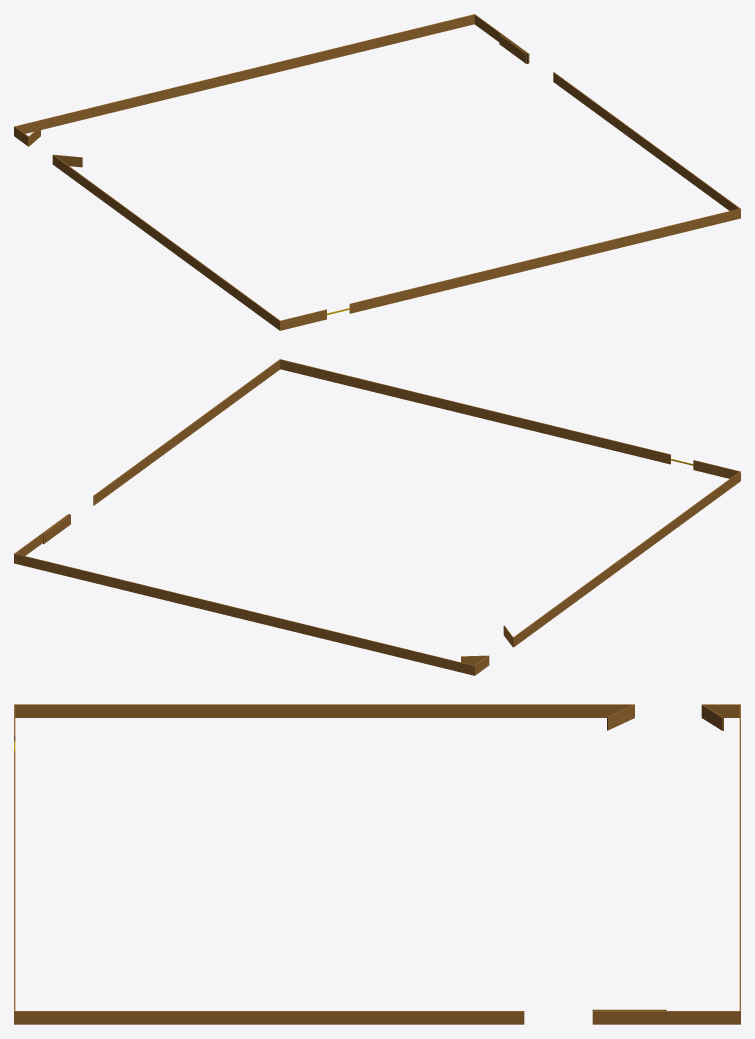
Rendered from Fence.glb.
3 renders of one model, top to bottom at view 1: azimuth 30°, elevation 25°; view 2: azimuth 150°, elevation 25°; view 3: azimuth 270°, elevation 25°, orthographic. The views are drawn at different scales.
Visible parts, largest first — view 1: Fence; view 2: Fence; view 3: Fence.
Boxes of the visible parts, bbox=[...] form: Fence: bbox=[14, 14, 740, 330]; Fence: bbox=[14, 359, 740, 675]; Fence: bbox=[14, 704, 740, 1024].
Bounding box in the file's own units: 100 × 2 × 99.98.
Materials: 1 (1 with a texture image).
